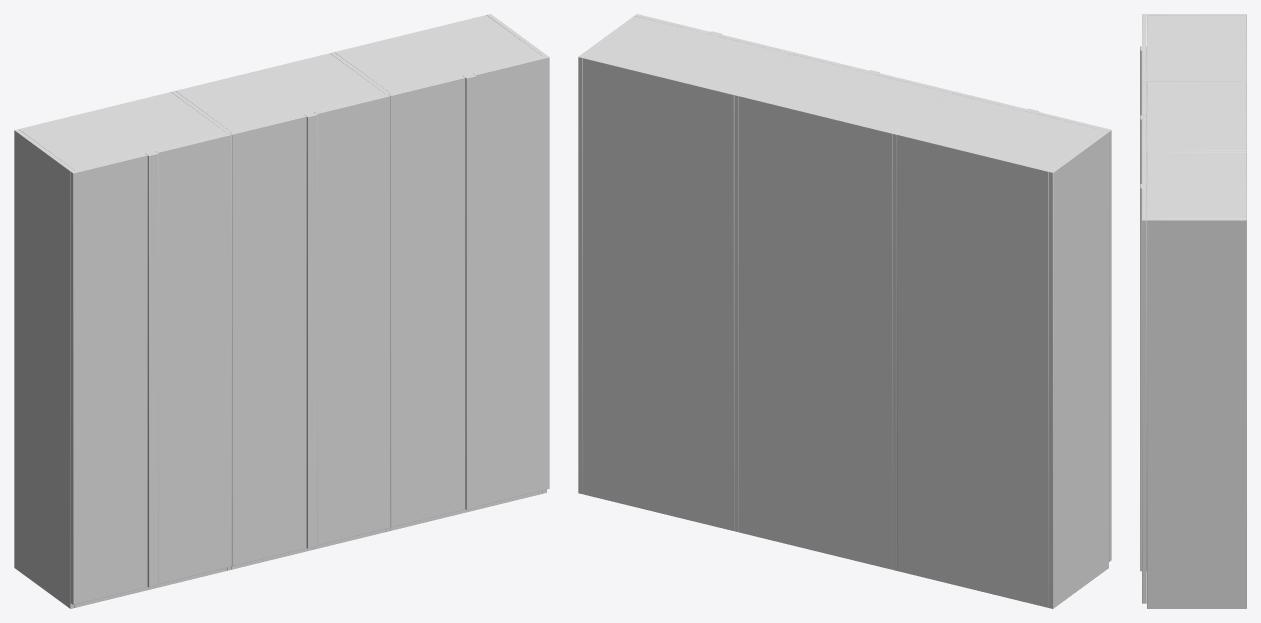
File: abo-B07H8SM6Q4.glb
3 renders of one model, left to right at view 1: azimuth 30°, elevation 25°; view 2: azimuth 150°, elevation 25°; view 3: azimuth 270°, elevation 25°, orthographic. The views are drawn at different scales.
Bounding box in the file's own units: 2.7 × 2.37 × 0.59.
Materials: 1 (1 with a texture image).
